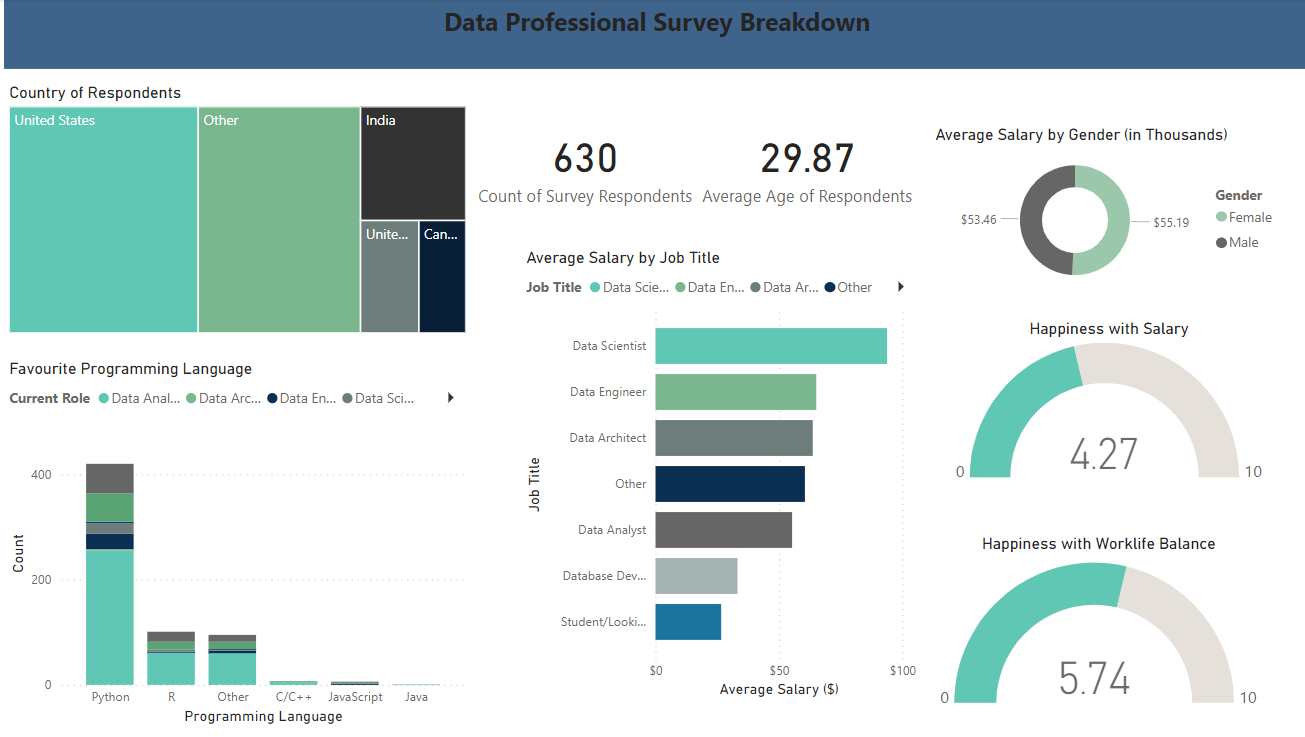

The page's visual inventory and layout, read from the dashboard file:
{"tool":"powerbi","page":{"name":"Page 1","canvas":[1280,720],"ordinal":0},"visuals":[{"type":"textbox","box":[9.7,0,1270.3,68.1],"z":0},{"type":"card","fields":{"Values":["CountNonNull(Data Professional Survey.Unique ID)"]},"box":[463.2,105.3,224.2,111.6],"z":1},{"type":"card","fields":{"Values":["Avg(Data Professional Survey.Q10 - Current Age)"]},"box":[680,105.3,222.1,111.6],"z":2},{"type":"barChart","title":"Average Salary by Job Title","fields":{"Category":["Data Professional Survey.Q1 - Which Title Best Fits your Current Role?.1"],"Y":["Avg(Data Professional Survey.Average Salary)"],"Series":["Data Professional Survey.Q1 - Which Title Best Fits your Current Role?.1"]},"box":[512.6,242.1,389.5,442.1],"z":3},{"type":"columnChart","title":"Favourite Programming Language","fields":{"Category":["Data Professional Survey.Q5 - Favorite Programming Language.1"],"Y":["CountNonNull(Data Professional Survey.Unique ID)"],"Series":["Data Professional Survey.Q1 - Which Title Best Fits your Current Role?.1"]},"box":[9.5,350.5,453.7,360],"z":4},{"type":"treemap","title":"Country of Respondents","fields":{"Group":["Data Professional Survey.Q11 - Which Country do you live in?.1"],"Values":["CountNonNull(Data Professional Survey.Q11 - Which Country do you live in?.1)"]},"box":[9.5,82.1,453.7,248.4],"z":5},{"type":"gauge","title":"Happiness with Worklife Balance","fields":{"Y":["Avg(Data Professional Survey.Q6 - How Happy are you in your Current Position with the following? (Work/Life Balance))"],"MinValue":["Min(Data Professional Survey.Q6 - How Happy are you in your Current Position with the following? (Work/Life Balance))1"],"MaxValue":["Max(Data Professional Survey.Q6 - How Happy are you in your Current Position with the following? (Work/Life Balance))2"]},"box":[910.5,520,328.4,178.9],"z":6},{"type":"gauge","title":"Happiness with Salary","fields":{"Y":["Avg(Data Professional Survey.Q6 - How Happy are you in your Current Position with the following? (Salary))"],"MinValue":["Min(Data Professional Survey.Q6 - How Happy are you in your Current Position with the following? (Salary))1"],"MaxValue":["Max(Data Professional Survey.Q6 - How Happy are you in your Current Position with the following? (Salary))2"]},"box":[910.5,311.6,348.4,164.2],"z":7},{"type":"donutChart","title":"Average Salary by Gender (in Thousands)","fields":{"Category":["Data Professional Survey.Q9 - Male/Female?"],"Y":["Avg(Data Professional Survey.Average Salary)"]},"box":[910.5,122.1,348.4,167.4],"z":8}]}

Visuals, with their boxes in screenshot pixels (x1, y1, x2, y2), scaled from the page's 1280x720 canvas onto the 1305x737 screenshot:
textbox: 10/0/1304/70
card - CountNonNull(Data Professional Survey.Unique ID): 472/108/701/222
card - Avg(Data Professional Survey.Q10 - Current Age): 693/108/920/222
"Average Salary by Job Title" barChart: 523/248/920/700
"Favourite Programming Language" columnChart: 10/359/472/727
"Country of Respondents" treemap: 10/84/472/338
"Happiness with Worklife Balance" gauge: 928/532/1263/715
"Happiness with Salary" gauge: 928/319/1283/487
"Average Salary by Gender (in Thousands)" donutChart: 928/125/1283/296
